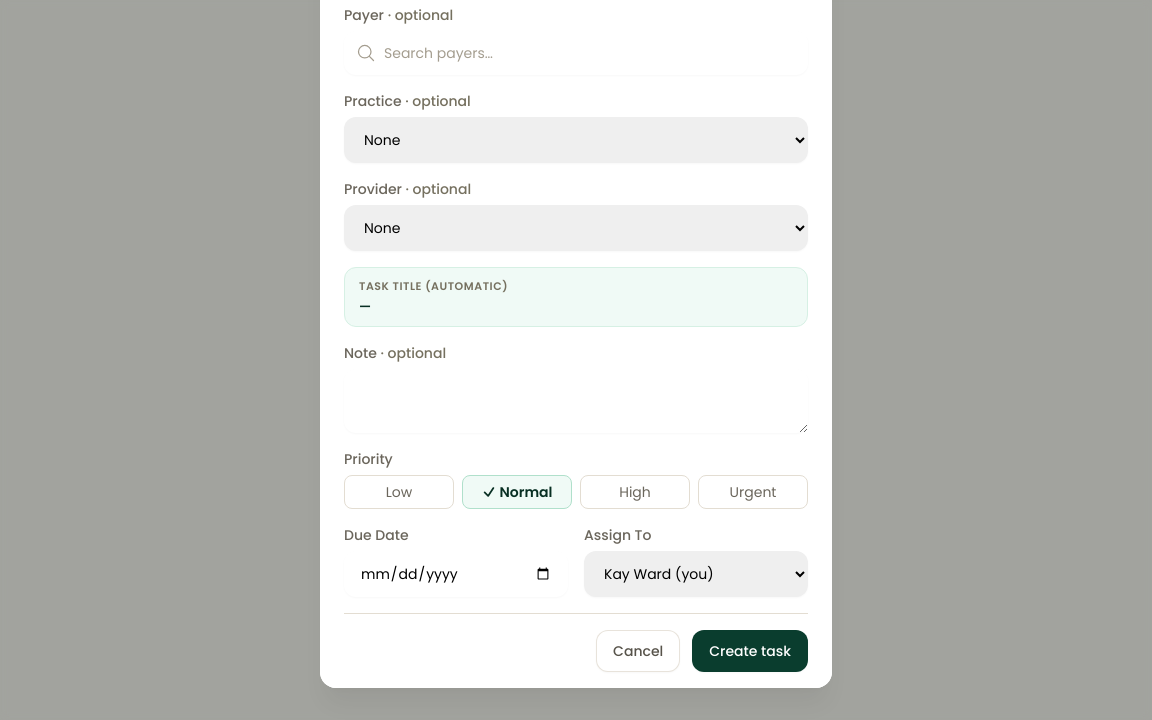
Test: NewTaskModal (guided) › requires a task group — validation keeps the modal open
(page scrolled)
Click the button "Create task".
click(750, 651)  # box [692,630,808,672]
(page scrolled)
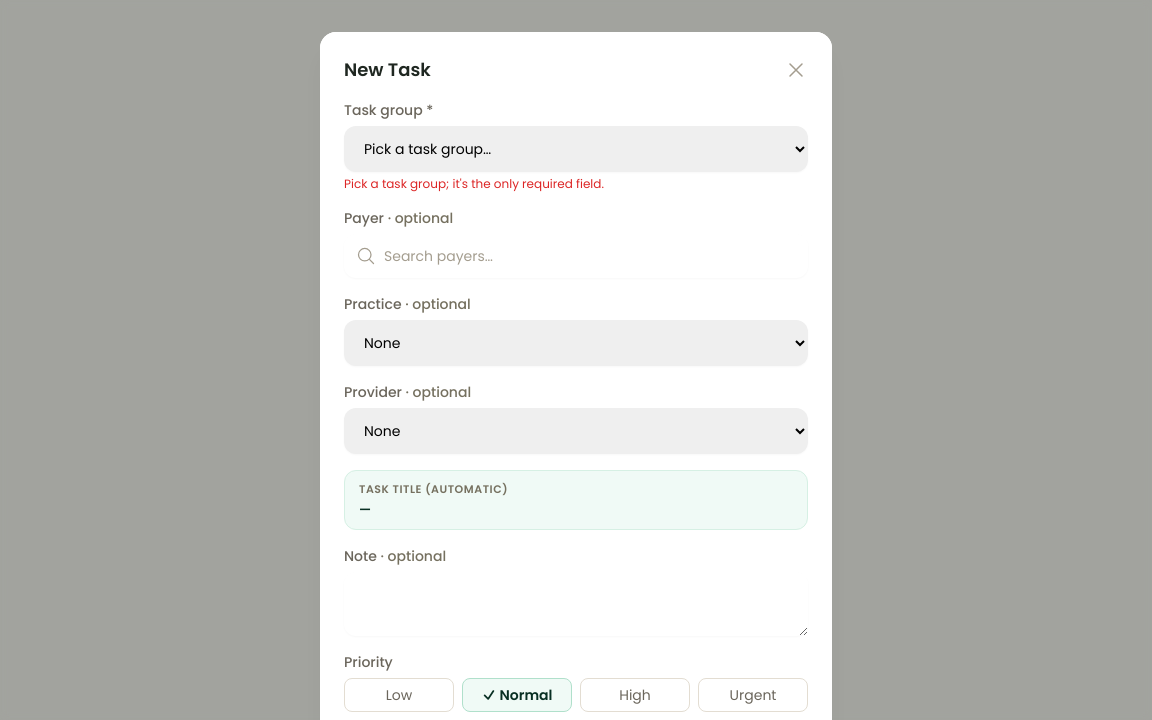
Expected: the text "Pick a task group; it's the only required field." is shown, [344,175,604,192]
Expected: the heading "New Task" is shown, [344,56,431,84]
